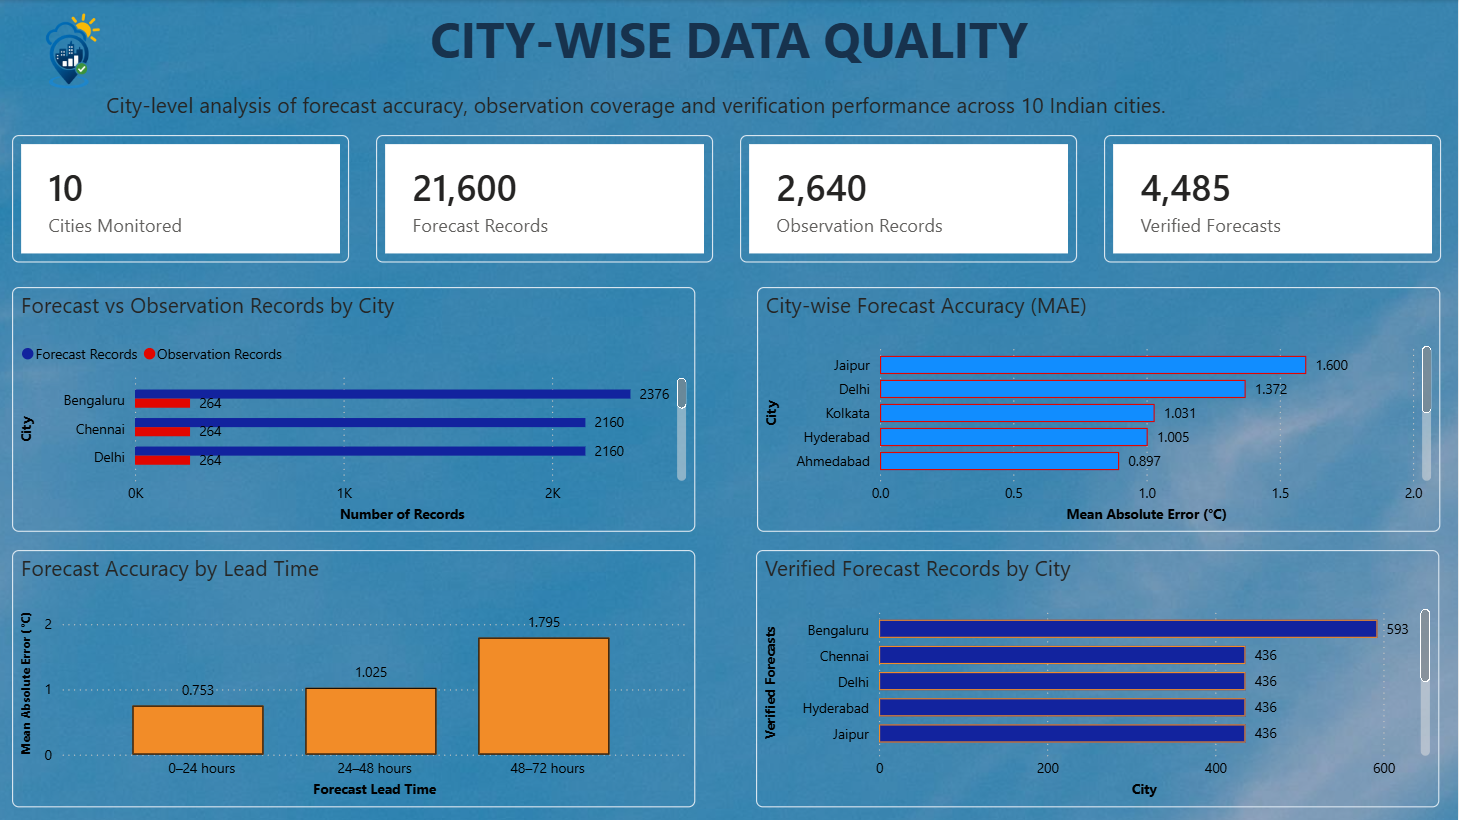

This screenshot's page, from the dashboard's own definition file:
{"tool":"powerbi","page":{"name":"CITY-WISE DATA QUALITY","canvas":[1280,720],"ordinal":3},"visuals":[{"type":"textbox","box":[0,0,1280.2,168.6],"z":0},{"type":"cardVisual","fields":{"Data":["public fact_weather_observation.Cities Monitored"]},"box":[10.4,118.5,296,112],"z":1000},{"type":"cardVisual","fields":{"Data":["public fact_weather_observation.Verified Forecasts Display_1"]},"box":[969.4,118.5,296,112],"z":2000},{"type":"cardVisual","fields":{"Data":["public fact_weather_observation.Observation Records Display"]},"box":[649.4,118.5,296,112],"z":3000},{"type":"cardVisual","fields":{"Data":["public fact_weather_observation.Forecast Records Display"]},"box":[330.4,118.5,296,112],"z":4000},{"type":"clusteredBarChart","title":"Forecast vs Observation Records by City","fields":{"Y":["public fact_weather_observation.Forecast Records","public fact_weather_observation.Observation Records"],"Category":["public dim_city.city_name"]},"box":[10.5,252,600,215.1],"z":5000},{"type":"clusteredBarChart","title":"City-wise Forecast Accuracy (MAE)","fields":{"Y":["Daily Forecast Accuracy.7-Day Rolling MAE"],"Category":["public dim_city.city_name"]},"box":[664.7,252,600,215.1],"z":6000},{"type":"columnChart","title":"Forecast Accuracy by Lead Time","fields":{"Y":["Daily Forecast Accuracy.7-Day Rolling MAE"],"Category":["Rolling Forecast Accuracy.lead_time_bucket"]},"box":[10.5,482.9,599.7,225.7],"z":7000},{"type":"clusteredBarChart","title":"Verified Forecast Records by City","fields":{"Y":["public fact_weather_observation.Verified Forecasts"],"Category":["Forecast Verification Detail.city_name"]},"box":[663.8,482.9,599.7,225.7],"z":8000},{"type":"image","box":[0,6.1,124.7,78.1],"z":9000}]}

Visuals, with their boxes in screenshot pixels (x1, y1, x2, y2), scaled from the page's 1280x720 canvas onto the 1459x820 screenshot:
textbox: <bbox>0, 0, 1458, 192</bbox>
cardVisual - public fact_weather_observation.Cities Monitored: <bbox>12, 135, 349, 263</bbox>
cardVisual - public fact_weather_observation.Verified Forecasts Display_1: <bbox>1105, 135, 1442, 263</bbox>
cardVisual - public fact_weather_observation.Observation Records Display: <bbox>740, 135, 1078, 263</bbox>
cardVisual - public fact_weather_observation.Forecast Records Display: <bbox>377, 135, 714, 263</bbox>
"Forecast vs Observation Records by City" clusteredBarChart: <bbox>12, 287, 696, 532</bbox>
"City-wise Forecast Accuracy (MAE)" clusteredBarChart: <bbox>758, 287, 1442, 532</bbox>
"Forecast Accuracy by Lead Time" columnChart: <bbox>12, 550, 696, 807</bbox>
"Verified Forecast Records by City" clusteredBarChart: <bbox>757, 550, 1440, 807</bbox>
image: <bbox>0, 7, 142, 96</bbox>
